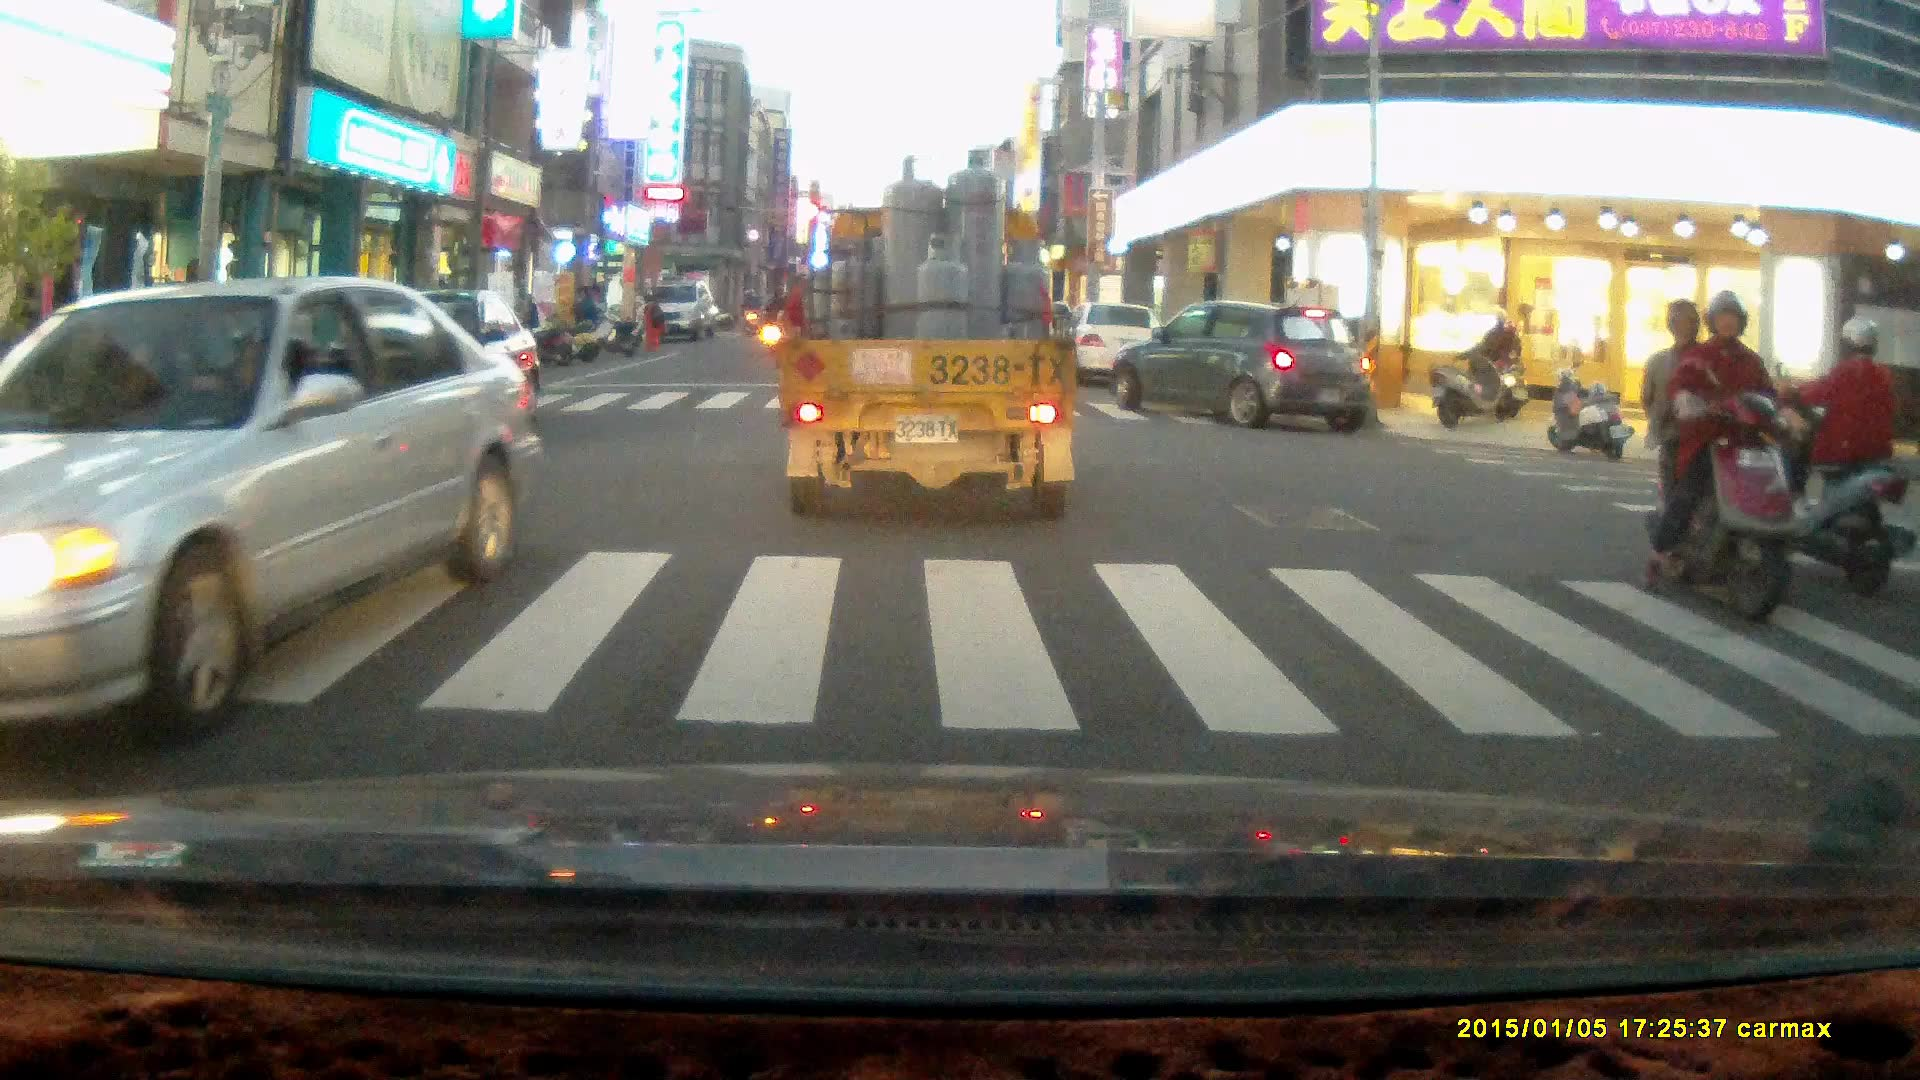pedestrian: (572, 283, 600, 348), (635, 293, 661, 353)
rider: (1627, 291, 1803, 629), (1752, 312, 1911, 604), (1468, 307, 1530, 424)
vehicle: (1, 277, 536, 775), (779, 149, 1080, 524), (1113, 302, 1374, 432), (1051, 304, 1175, 390), (634, 279, 712, 342)
